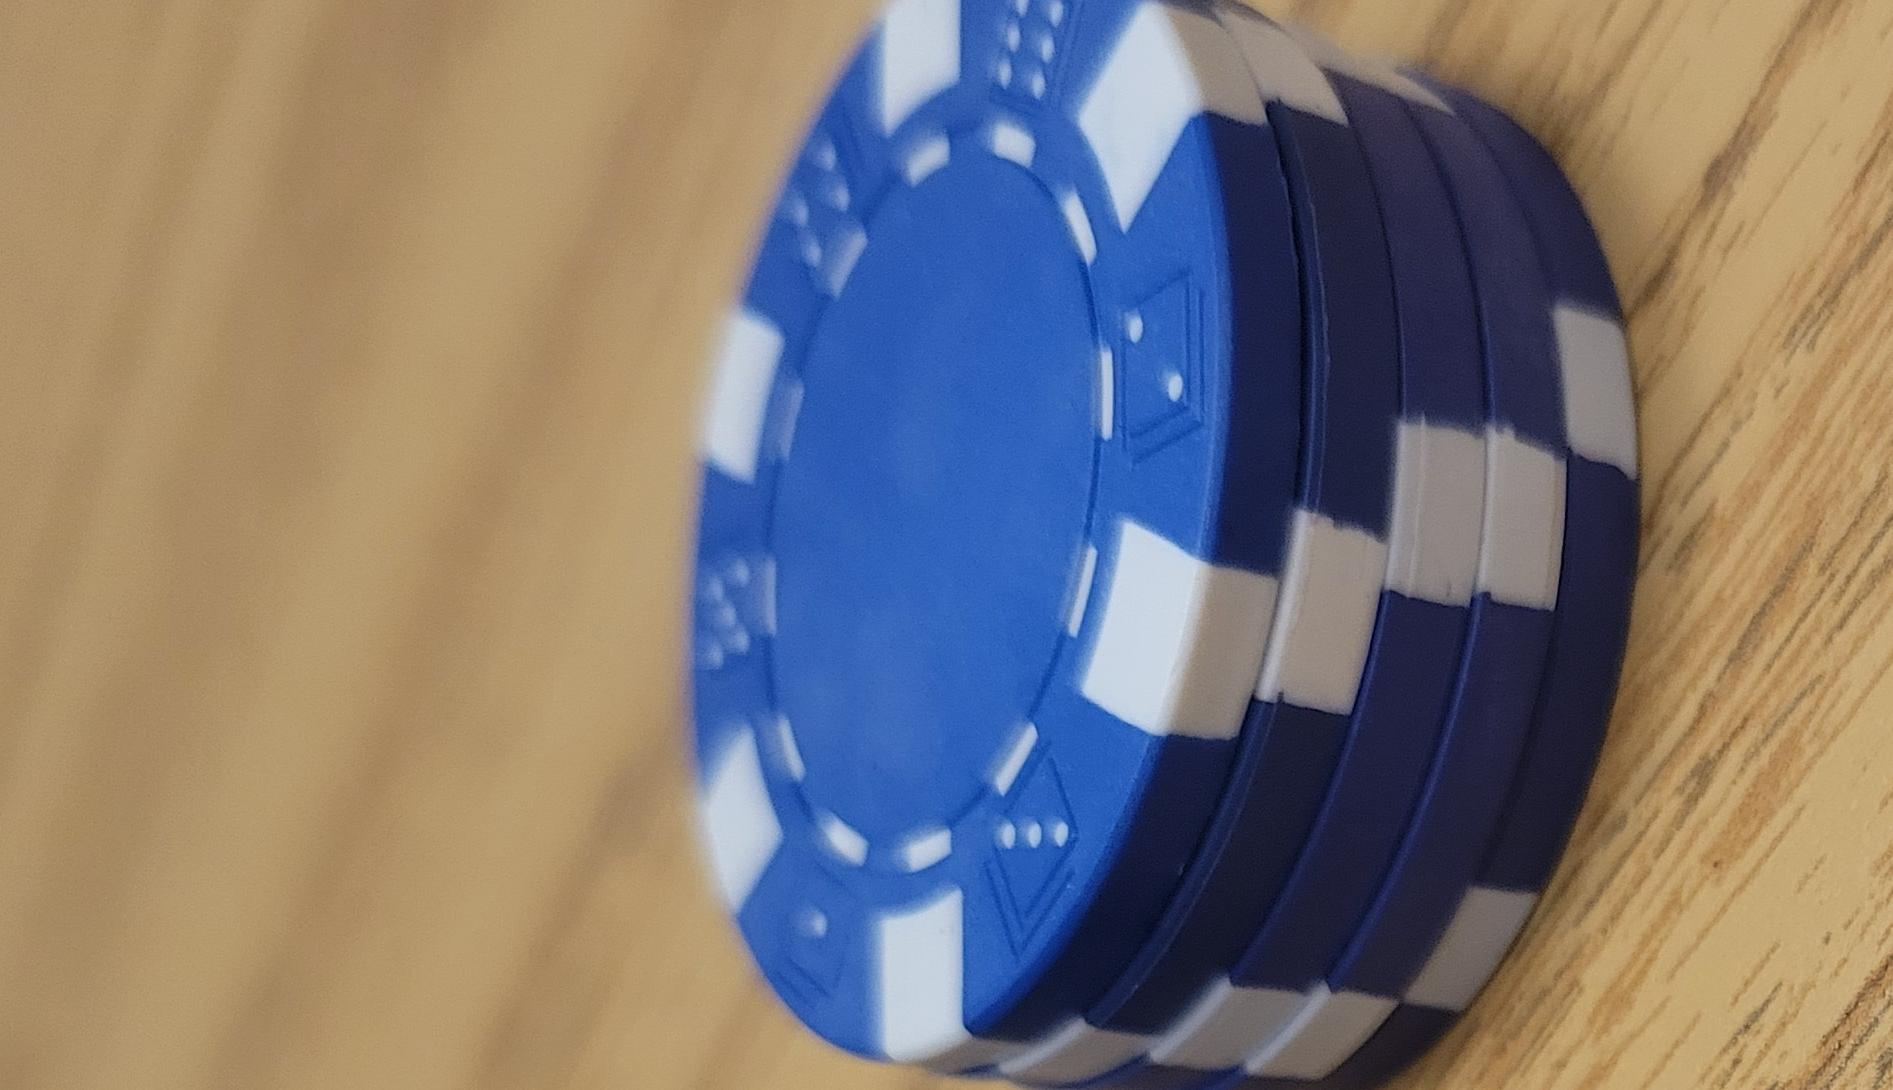Chip: (1, 85, 1376, 1090)
